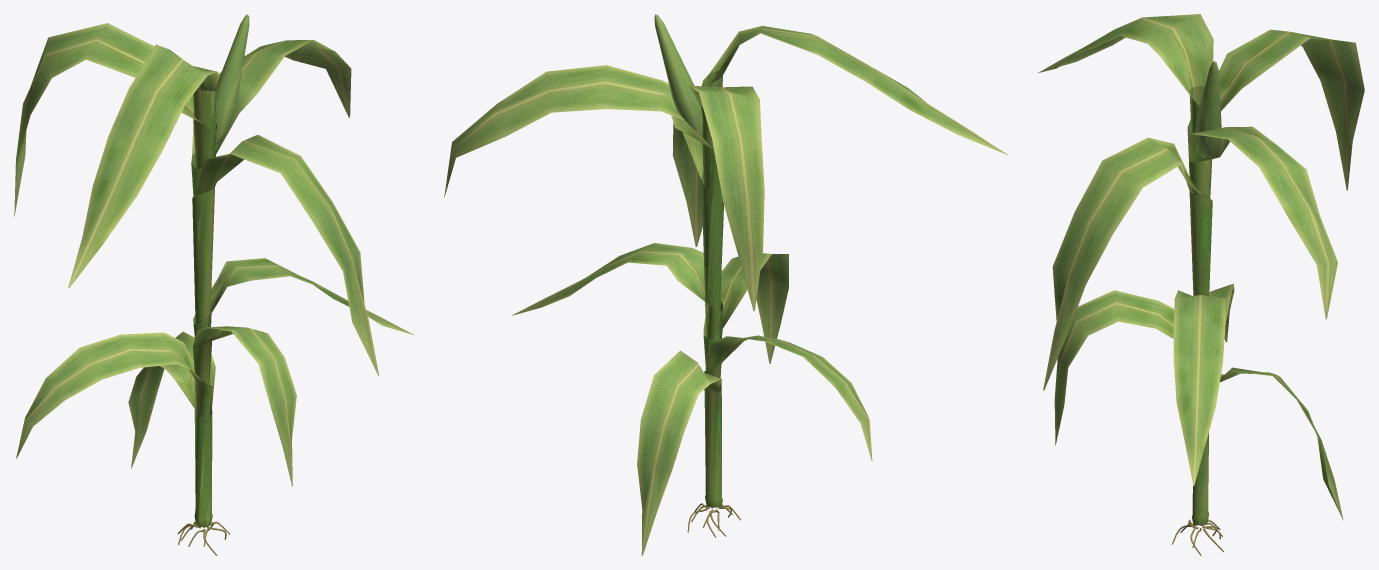
File: grow3.fbx
The picture shows the model from 3 angles, left to right: view 1: azimuth 30°, elevation 25°; view 2: azimuth 150°, elevation 25°; view 3: azimuth 270°, elevation 25°; orthographic projection.
Parts seen in each view (by area): view 1: Plane.013, Plane.012, Plane.011, Plane.014, Plane.008, Plane.010, Plane.015, Plane.009, Cylinder.001; view 2: Plane.015, Plane.008, Plane.014, Plane.013, Plane.012, Plane.010, Plane.009, Plane.011, Cylinder.001; view 3: Plane.012, Plane.014, Plane.015, Plane.009, Plane.013, Plane.010, Plane.008, Cylinder.001, Plane.011.
Part boxes in pixels (box(x1,y1,x2,y2)): Plane.013: box(68, 44, 217, 287); Plane.012: box(192, 134, 379, 376); Plane.011: box(16, 332, 212, 458); Plane.014: box(14, 23, 216, 216); Plane.008: box(128, 331, 215, 527); Plane.010: box(192, 326, 296, 486); Plane.015: box(191, 40, 351, 197); Plane.009: box(193, 258, 414, 338); Cylinder.001: box(214, 14, 249, 145); Plane.015: box(444, 65, 720, 197); Plane.008: box(637, 350, 722, 555); Plane.014: box(689, 85, 764, 311); Plane.013: box(701, 25, 1008, 155); Plane.012: box(672, 123, 723, 310); Plane.010: box(703, 253, 788, 369); Plane.009: box(511, 243, 723, 339); Plane.011: box(704, 335, 872, 460); Cylinder.001: box(654, 14, 702, 136); Plane.012: box(1043, 137, 1212, 390); Plane.014: box(1187, 29, 1364, 190); Plane.015: box(1187, 126, 1337, 319); Plane.009: box(1173, 290, 1225, 485); Plane.013: box(1038, 14, 1213, 132); Plane.010: box(1054, 290, 1174, 445); Plane.008: box(1191, 367, 1343, 525); Cylinder.001: box(1195, 61, 1221, 157); Plane.011: box(1209, 283, 1234, 342).
Size of the model in its own units: 0.9192 by 1.58 by 1.37.
Materials: 2 (2 with a texture image).
